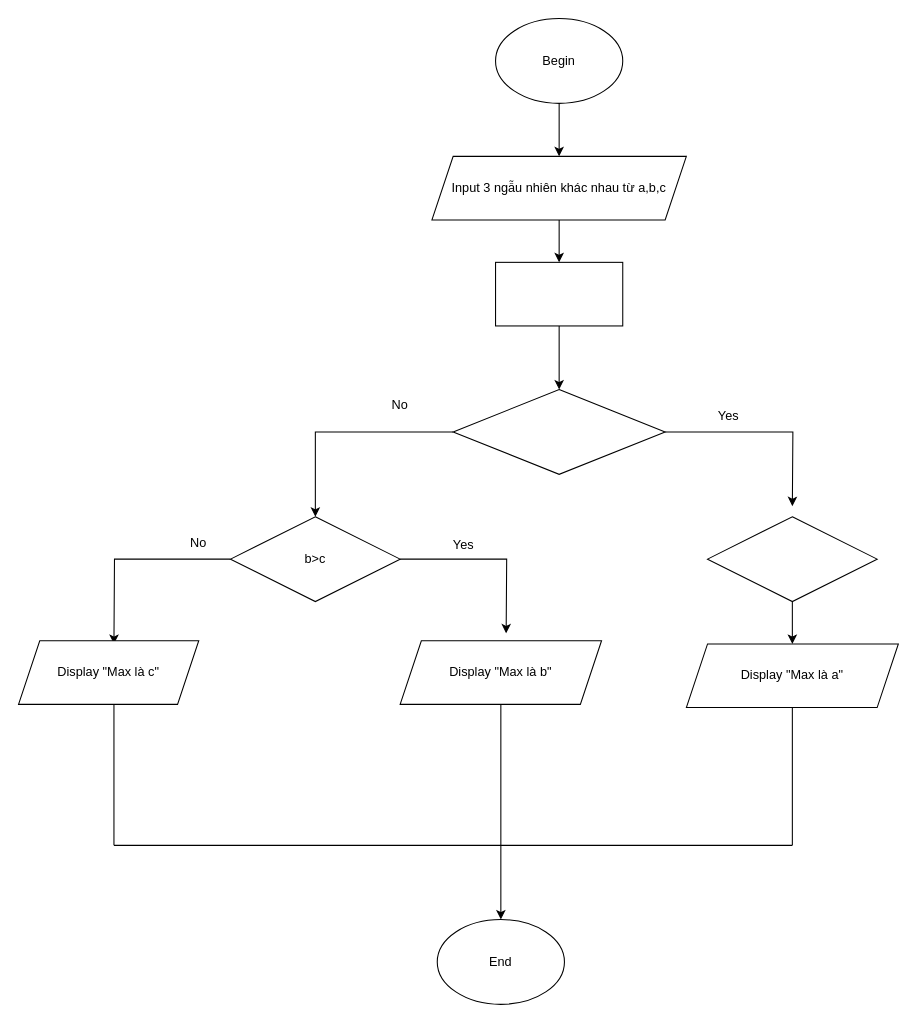
This 917x1023 diagram has some shape labels left out. Here are the shapes that lost their labels. From the top down, the box of each, then its label:
(494, 261, 623, 326): Max=a
(452, 388, 665, 474): a>b
(706, 516, 877, 602): a>c
